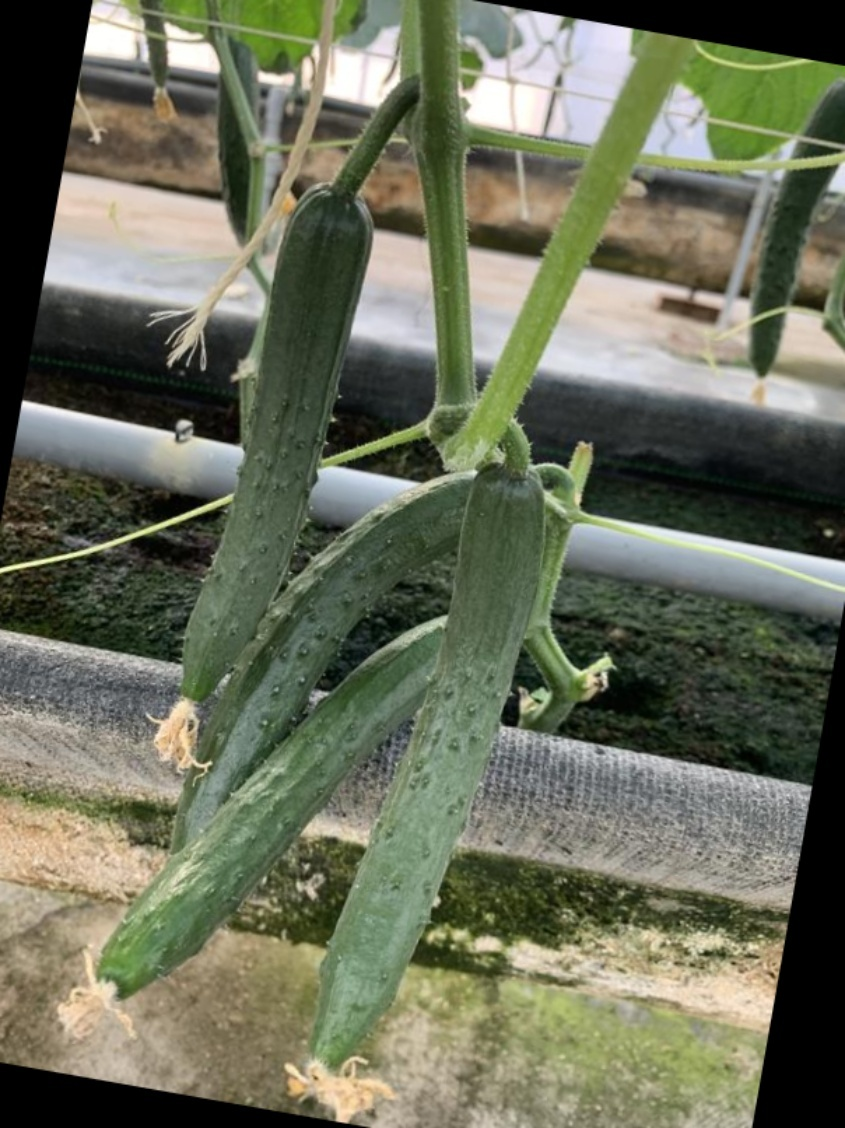mature: (100, 609, 452, 993)
